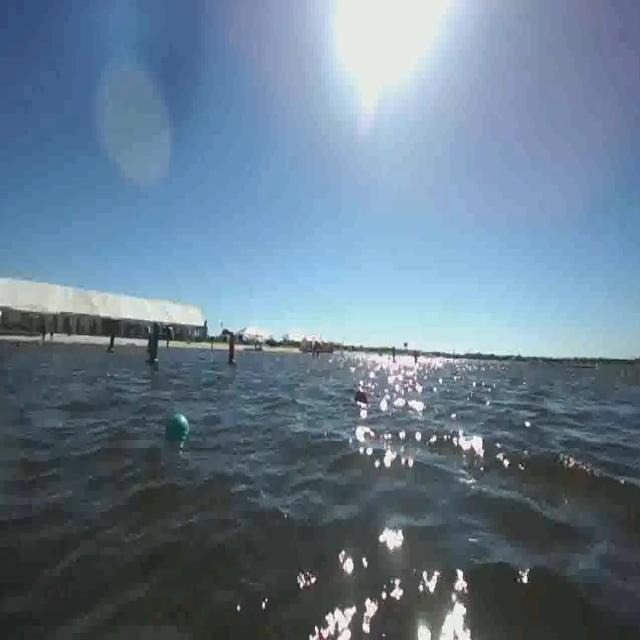green-buoy: (167, 413, 191, 442)
green-column-buoy: (144, 322, 161, 368), (106, 333, 118, 355)
red-column-buoy: (226, 330, 236, 368)
